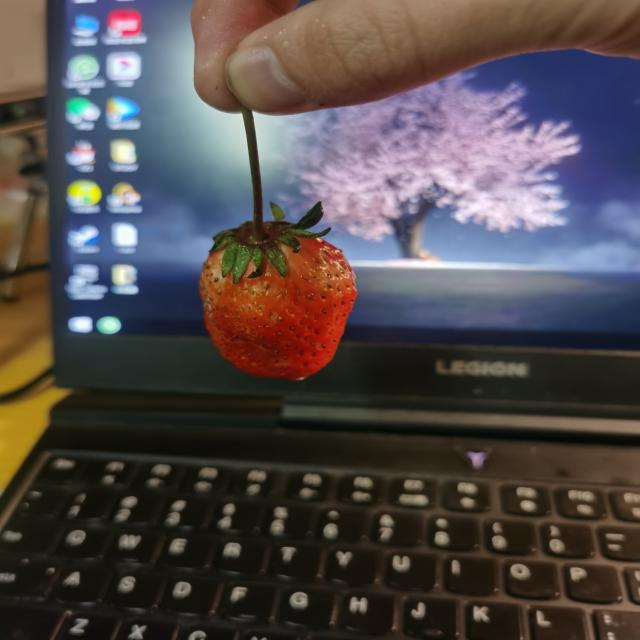stem: (247, 139, 267, 245)
strawberry: (199, 220, 358, 381)
